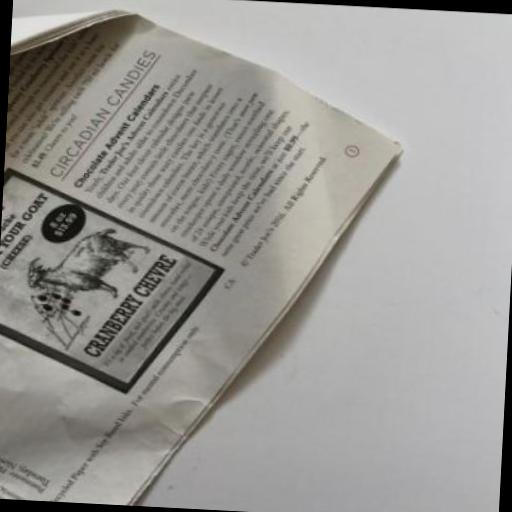paper: (0, 2, 411, 512)
